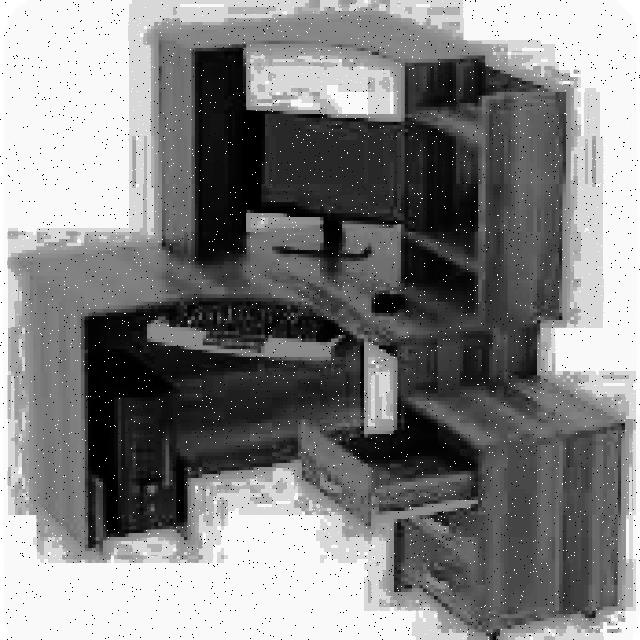table: (11, 7, 625, 640)
